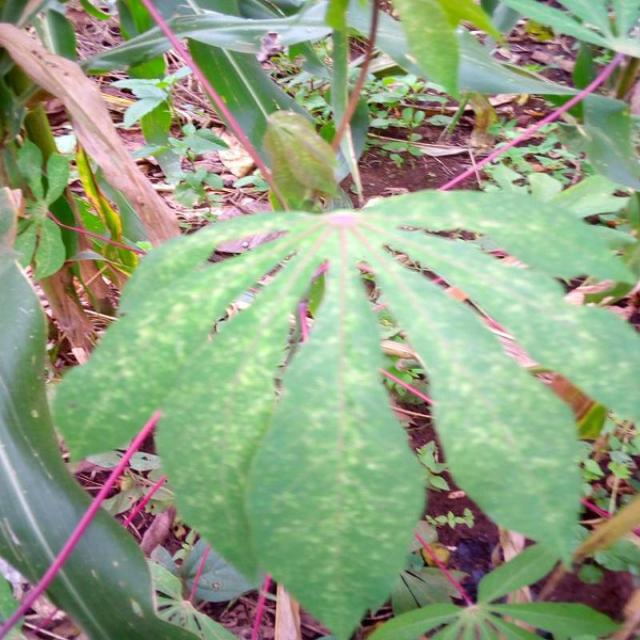cassava leaf: (48, 186, 638, 636)
